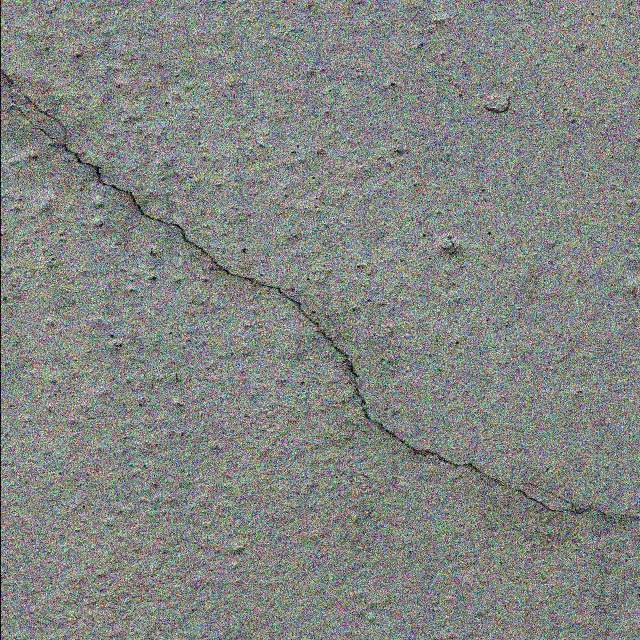SurfaceCrack: (0, 15, 639, 634)
